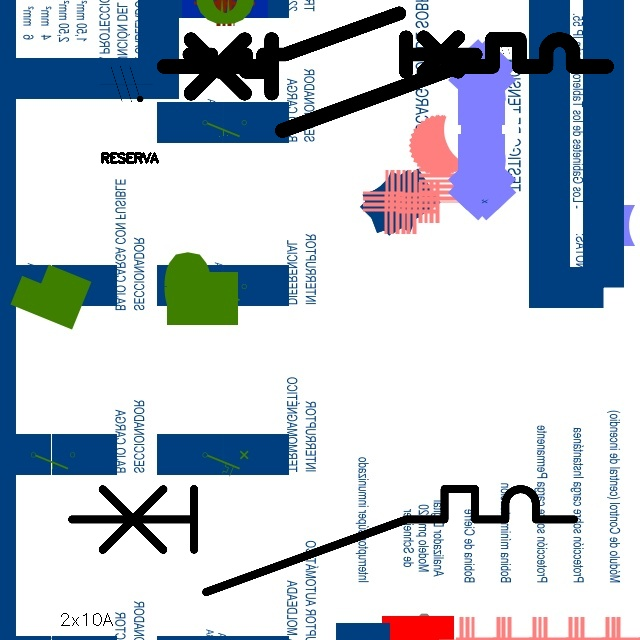interruptor_termomagnetico: (59, 476, 587, 605), (152, 28, 618, 142), (182, 6, 483, 79)
